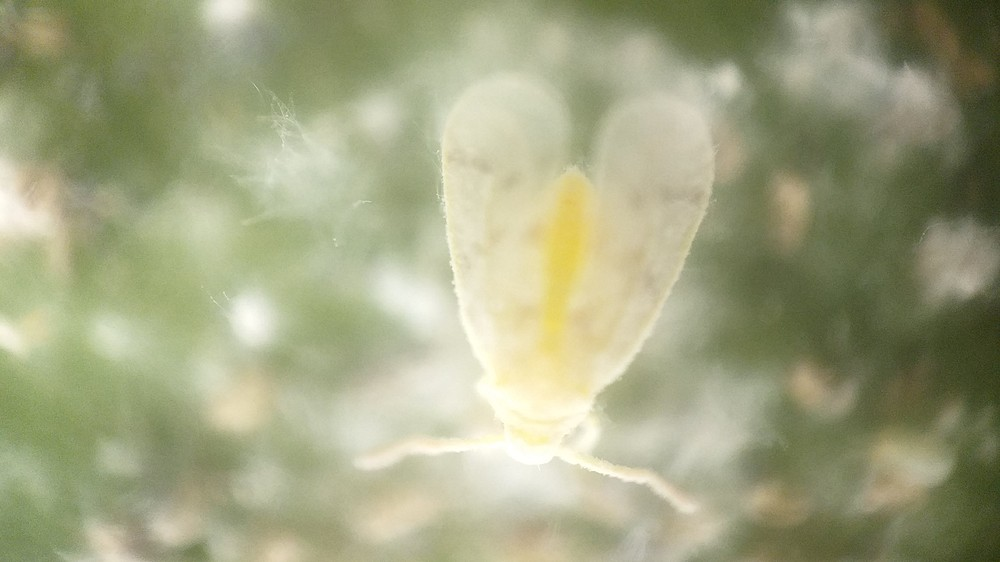Mosca Blanca: (346, 74, 742, 535)
